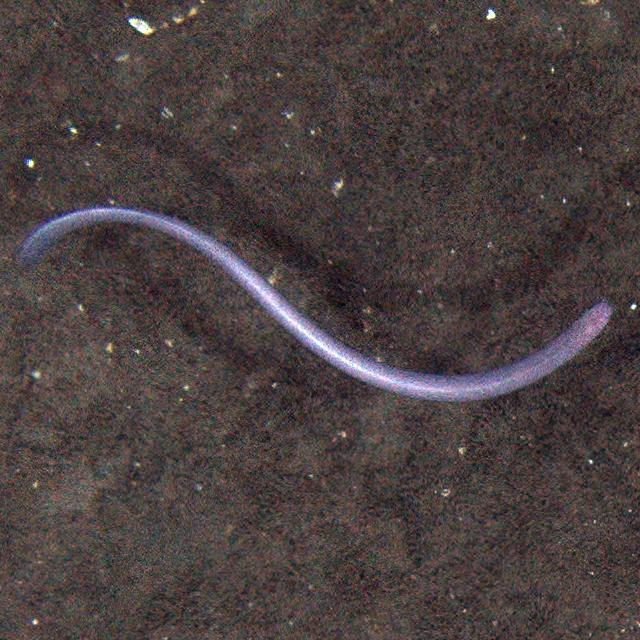eel: (9, 206, 612, 405)
